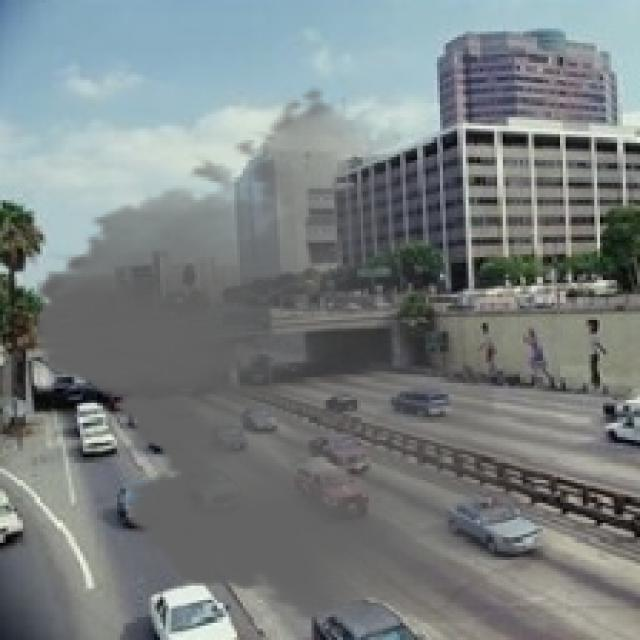smoke: (14, 86, 583, 634)
